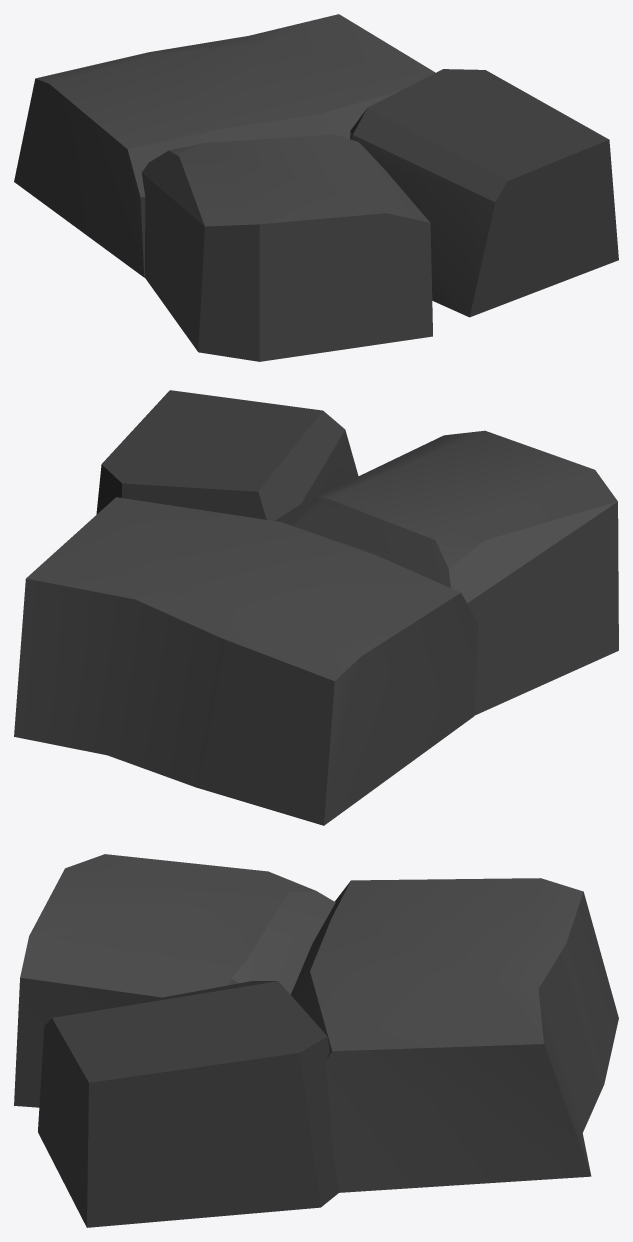
The model's file is ea01_env_road_cobble_02c_pre__1__lev1.glb.
3 views of the same model, one above another, from view 1: azimuth 30°, elevation 25°; view 2: azimuth 150°, elevation 25°; view 3: azimuth 270°, elevation 25° (orthographic). The views are drawn at different scales.
Parts seen in each view (by area): view 1: ea01_env_road_cobble_02c_pre__1__lev1; view 2: ea01_env_road_cobble_02c_pre__1__lev1; view 3: ea01_env_road_cobble_02c_pre__1__lev1.
Part boxes in pixels (<box>): ea01_env_road_cobble_02c_pre__1__lev1: <box>14,14,618,361</box>; ea01_env_road_cobble_02c_pre__1__lev1: <box>14,390,618,825</box>; ea01_env_road_cobble_02c_pre__1__lev1: <box>14,854,618,1227</box>.
Size of the model in its own units: 1.1 by 0.3422 by 1.22.
1 material, 1 textured.
